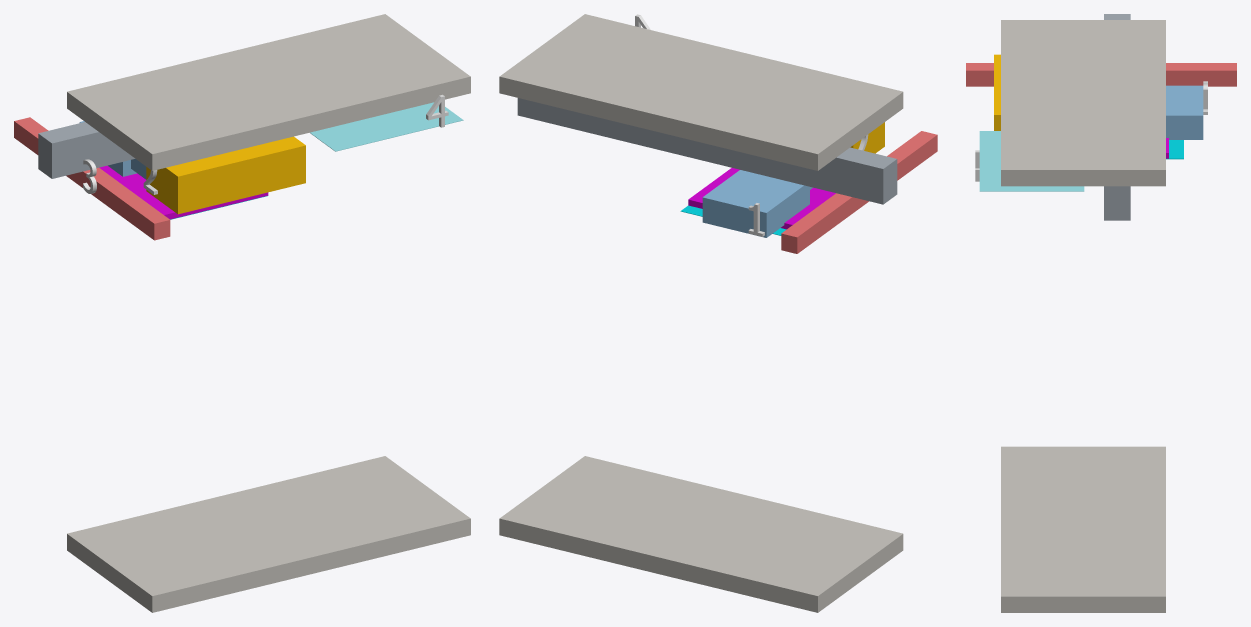
Rendered from evc1-5-governed-elevation.glb.
3 renders of one model, left to right at view 1: azimuth 30°, elevation 25°; view 2: azimuth 150°, elevation 25°; view 3: azimuth 270°, elevation 25°, orthographic. The views are drawn at different scales.
Parts seen in each view (by area): view 1: Geom3D (×7); view 2: Geom3D (×6); view 3: Geom3D (×7).
Boxes of the visible parts, x1,y1,x2,y2 form: Geom3D (×7): (14, 14, 470, 612); Geom3D (×6): (499, 14, 937, 612); Geom3D (×7): (966, 14, 1236, 612).
Bounding box in the file's own units: 2.32 × 2.78 × 1.54.
